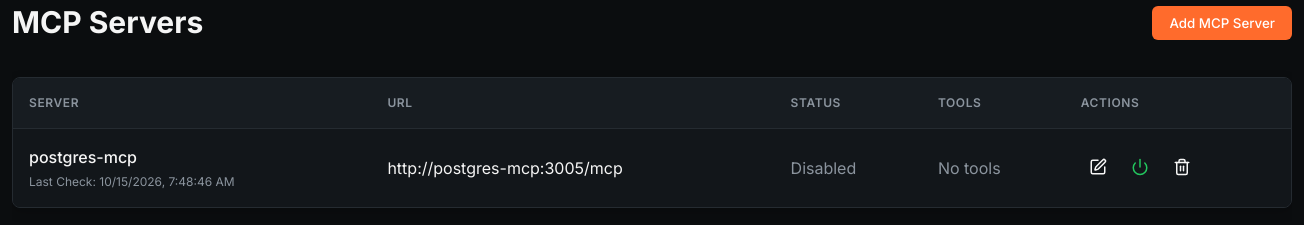
Test: Server Toggle Operations and UI State Synchronization › successfully enables a disabled server and updates UI to Connected status
The image size is (1304, 225).
Expected: the text "Disabled" is shown, x1=791 y1=158 x2=856 y2=178
Click the button titled "Enable".
click(1140, 168)  # box x1=1123 y1=150 x2=1157 y2=186
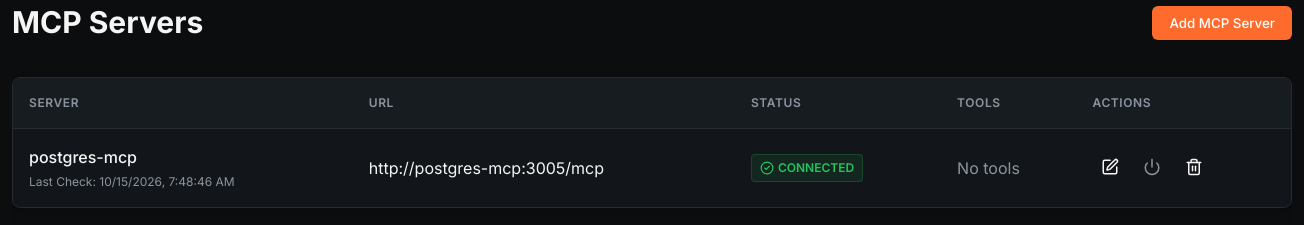
Now the text "Disabled" is gone
